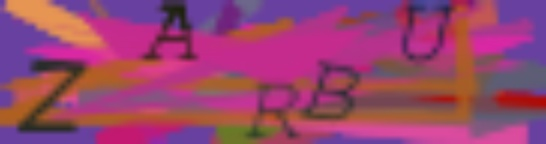A: (141, 1, 204, 62)
B: (299, 59, 364, 123)
R: (247, 79, 303, 142)
U: (394, 4, 459, 65)
Z: (15, 53, 88, 137)
